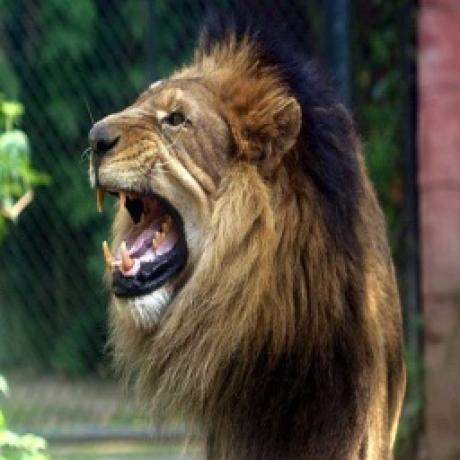Lion: (84, 16, 414, 460)
